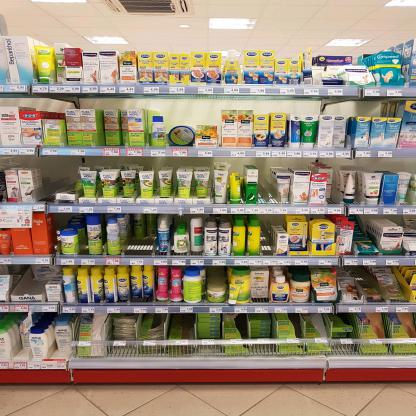Void: (42, 157, 77, 192), (172, 99, 219, 123), (261, 168, 275, 202), (264, 221, 274, 252), (127, 239, 150, 252)
